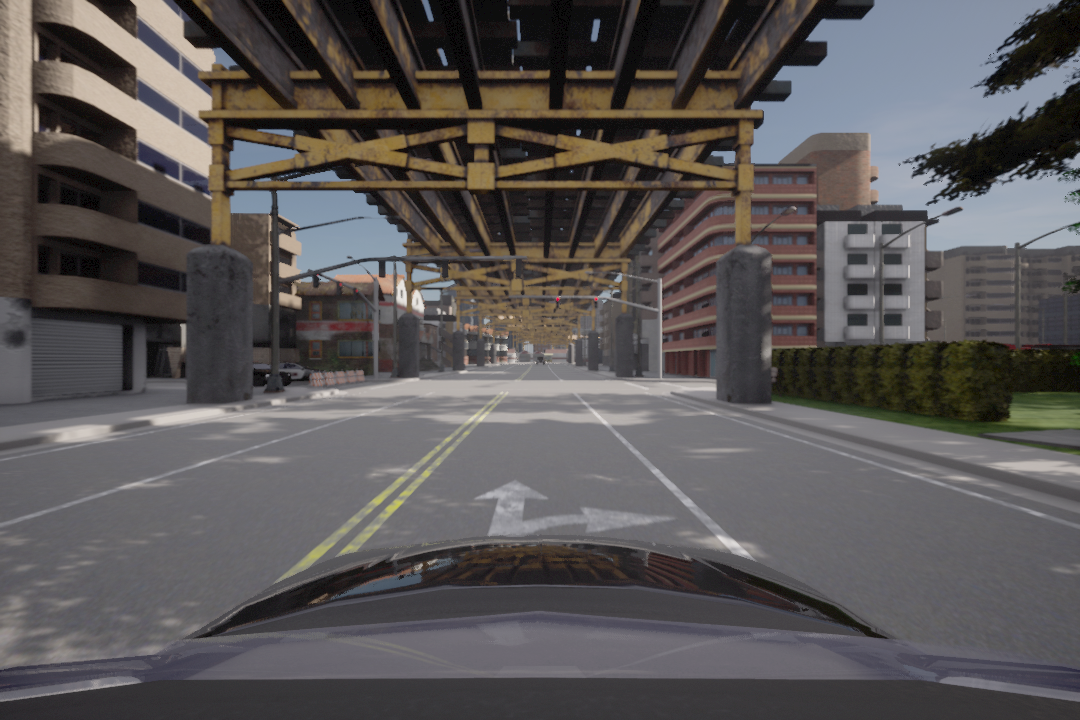RoadSign_forward_right: (473, 473, 680, 543)
